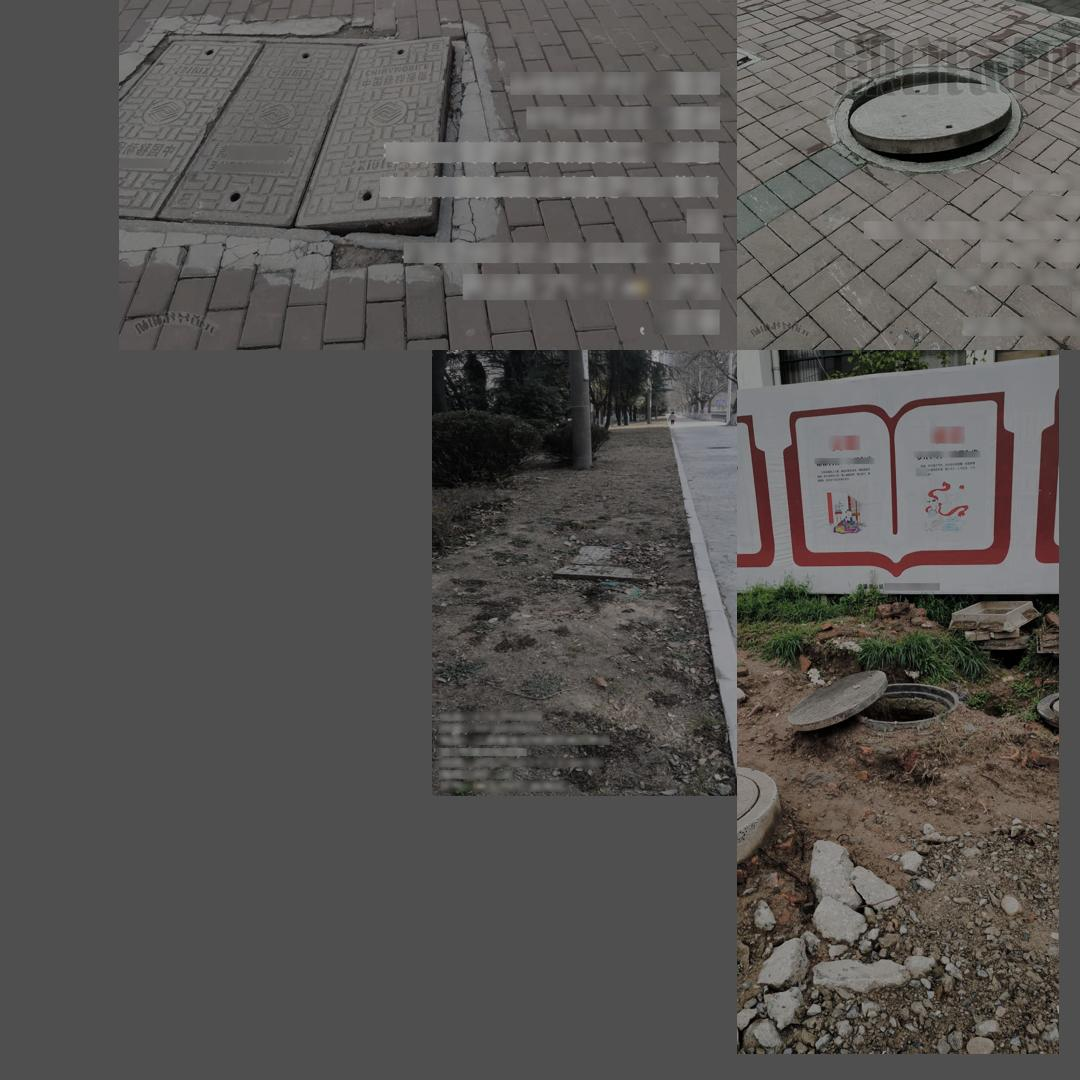uncovered: (118, 27, 463, 250), (833, 63, 1021, 173), (779, 661, 974, 734), (549, 544, 654, 580)
